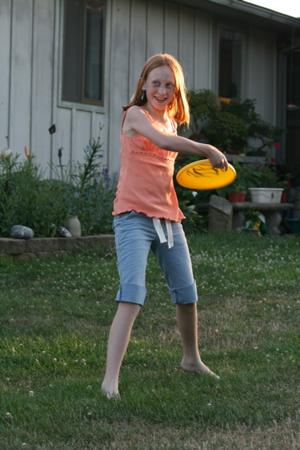person: (102, 54, 230, 405)
